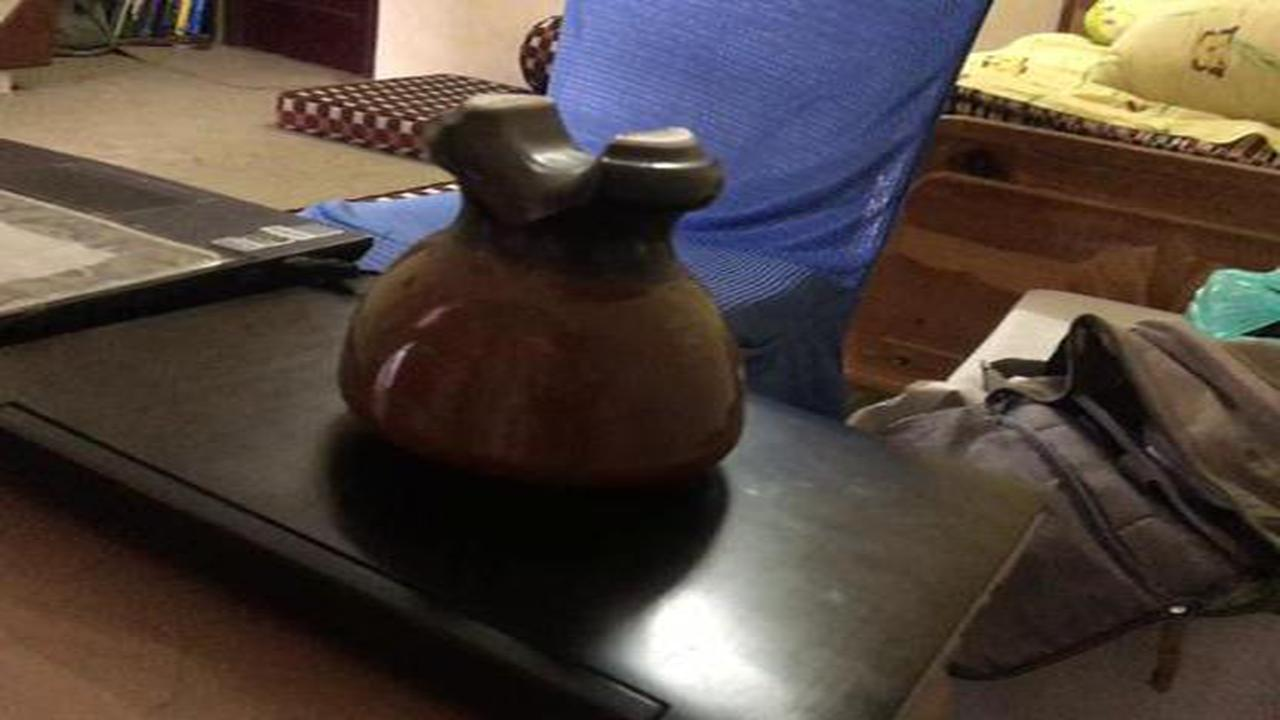insulator_pin: (327, 73, 773, 525)
